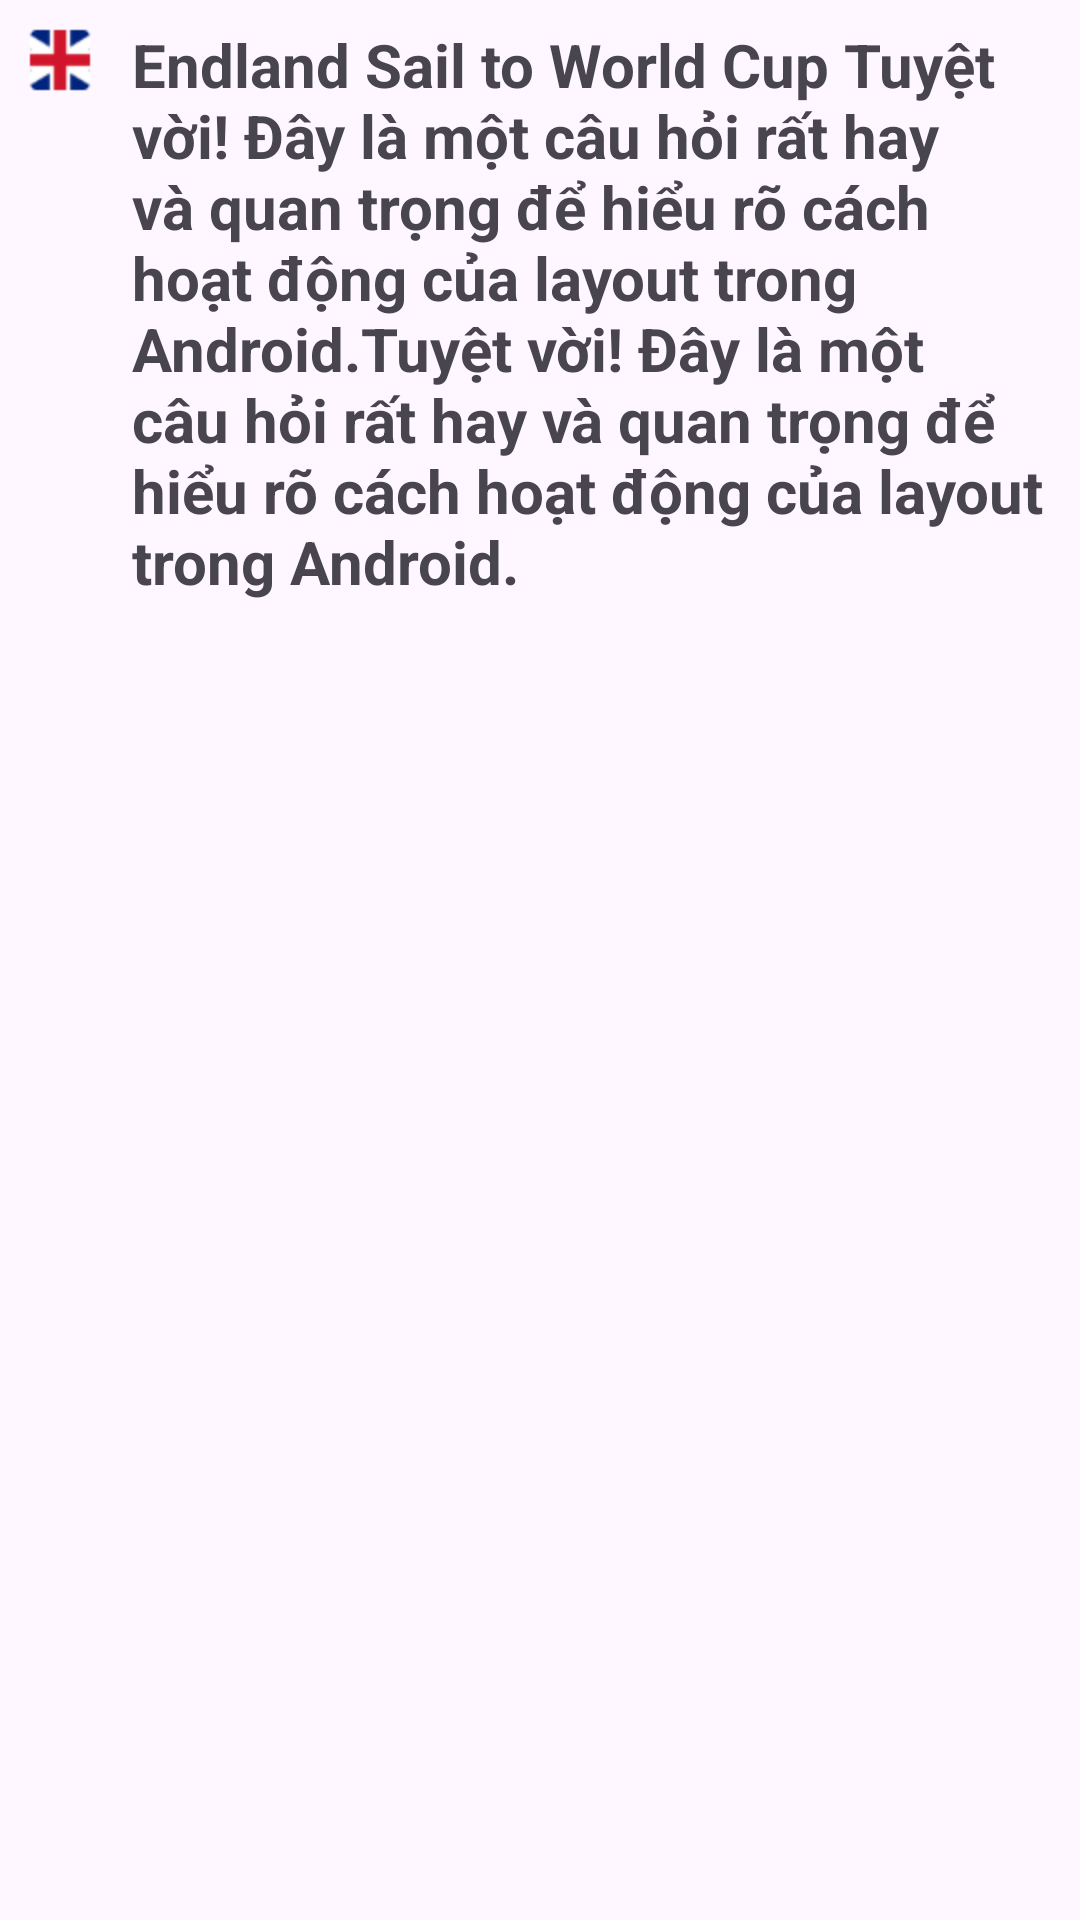

Point at icon controls on the screen. Image size 1080px×1920px, points as [x,y].
flag: [60,60]
